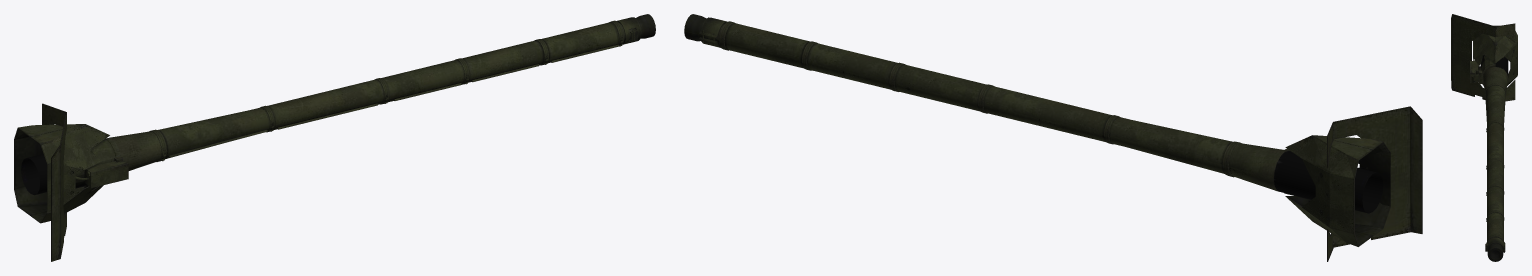
Rendered from gun.gltf.
The picture shows the model from 3 angles, left to right: view 1: azimuth 30°, elevation 25°; view 2: azimuth 150°, elevation 25°; view 3: azimuth 270°, elevation 25°; orthographic projection. The views are drawn at different scales.
Parts seen in each view (by area): view 1: gun; view 2: gun; view 3: gun.
Boxes of the visible parts, <box> form: gun: <box>14,14,655,261</box>; gun: <box>684,14,1422,261</box>; gun: <box>1451,14,1517,261</box>.
Size of the model in its own units: 5.01 by 0.8634 by 0.6848.
Materials: 3 (3 with a texture image).
